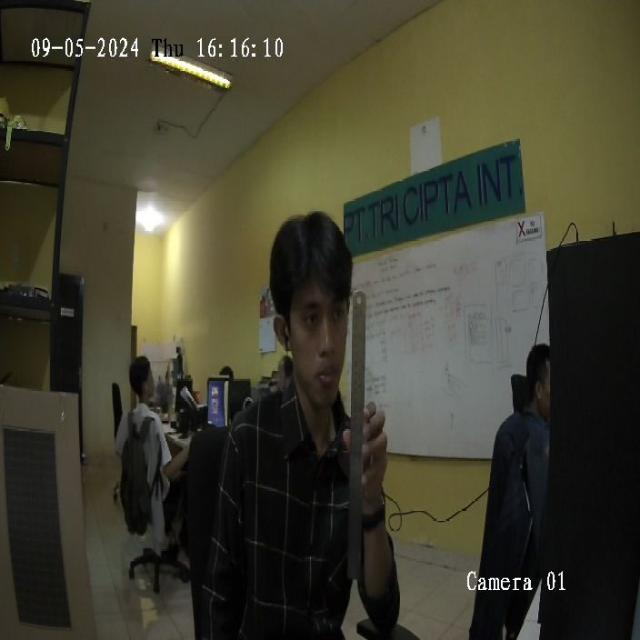Ruler: (349, 291, 365, 591)
